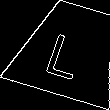L_N: (46, 22, 94, 79)
